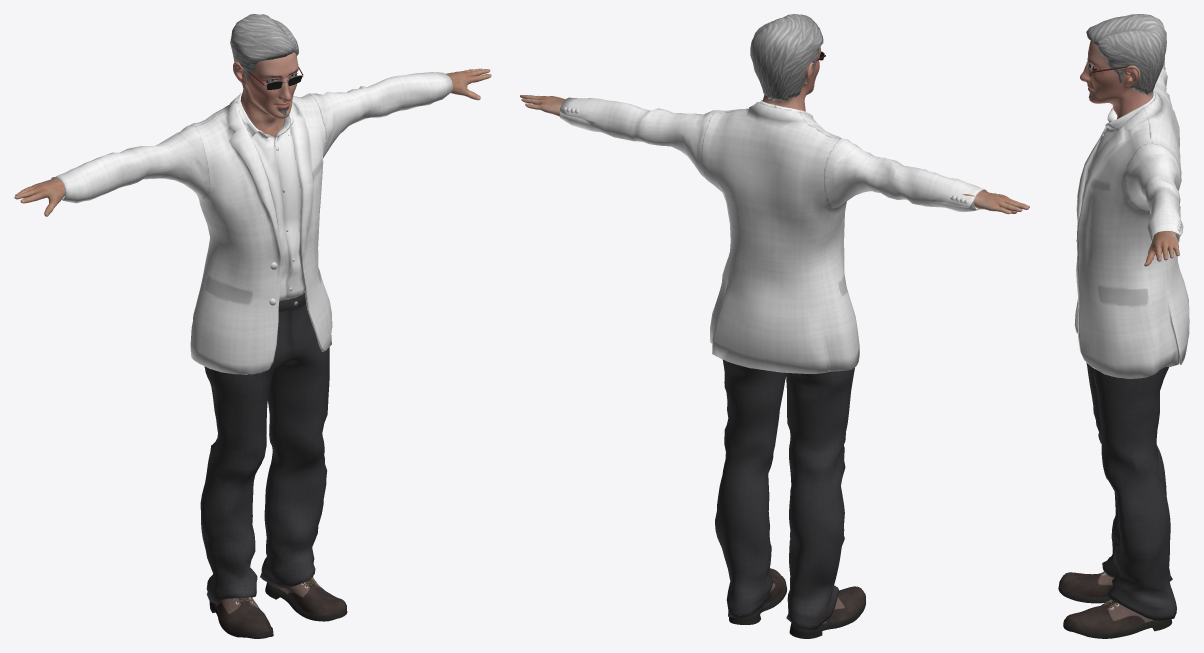
The model's file is Male-Doctor.obj.
3 views of the same model, side by side, from view 1: azimuth 30°, elevation 25°; view 2: azimuth 150°, elevation 25°; view 3: azimuth 270°, elevation 25° (orthographic).
Visible parts, largest first — view 1: Tops, Bottoms, Body, Shoes, Hair; view 2: Tops, Bottoms, Hair, Shoes, Body; view 3: Tops, Bottoms, Hair, Shoes, Body.
Part boxes in pixels (x1=…): Tops: x1=51, y1=72, x2=452, y2=374; Bottoms: x1=200, y1=292, x2=329, y2=603; Body: x1=14, y1=52, x2=491, y2=216; Shoes: x1=209, y1=577, x2=347, y2=638; Hair: x1=230, y1=14, x2=298, y2=89; Tops: x1=559, y1=97, x2=987, y2=373; Bottoms: x1=715, y1=359, x2=854, y2=630; Hair: x1=750, y1=14, x2=823, y2=101; Shoes: x1=729, y1=568, x2=865, y2=638; Body: x1=520, y1=46, x2=1029, y2=214; Tops: x1=1074, y1=56, x2=1189, y2=378; Bottoms: x1=1086, y1=362, x2=1176, y2=620; Hair: x1=1086, y1=14, x2=1166, y2=94; Shoes: x1=1058, y1=571, x2=1172, y2=638; Body: x1=1080, y1=41, x2=1179, y2=266.
Size of the model in its own units: 159 by 184 by 36.66.
Materials: 1 (1 with a texture image).
